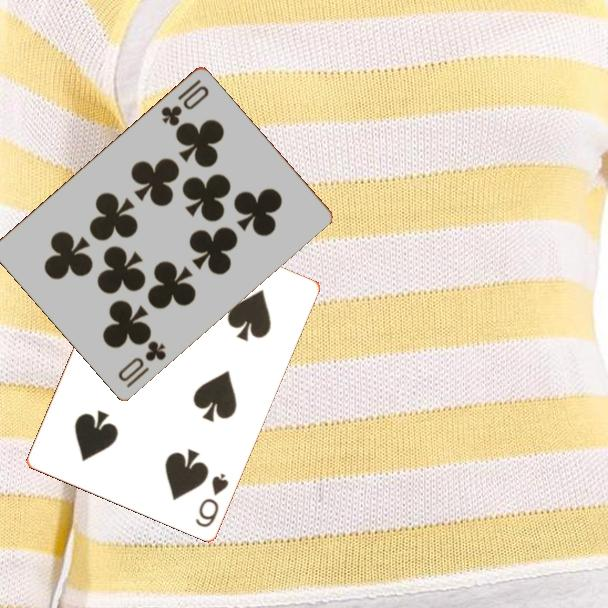c10: (157, 75, 212, 129), (114, 337, 169, 390)
s06: (191, 469, 231, 530)
